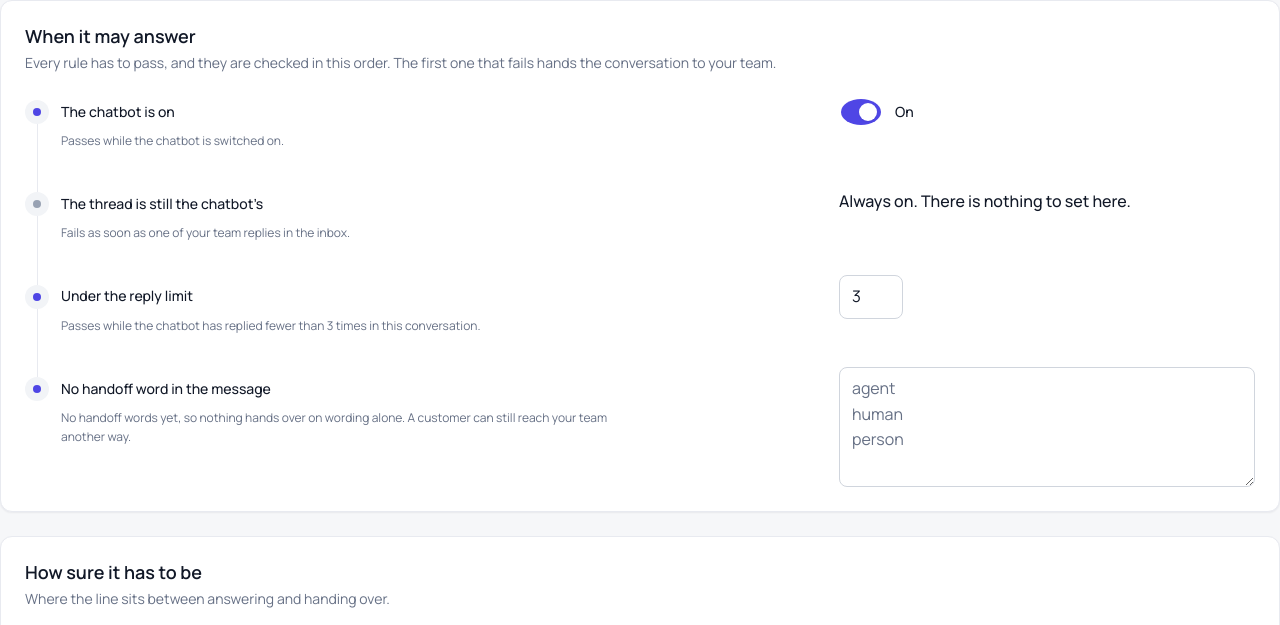
the master switch › snaps back and says why when the write is refused
Click the switch. click: {"x": 861, "y": 112}
box: [839,90,883,134]
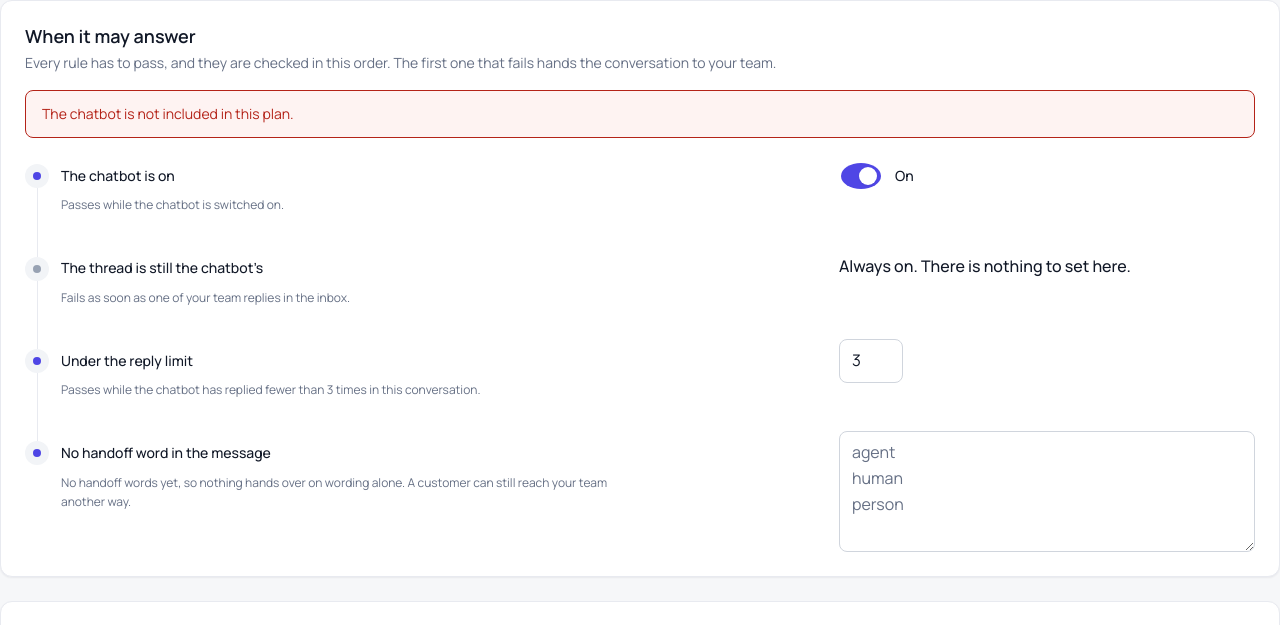
Expected: the switch is checked, [839,154,883,198]
Expected: the text "The chatbot is not included in this plan." is shown, [25,90,1255,138]
